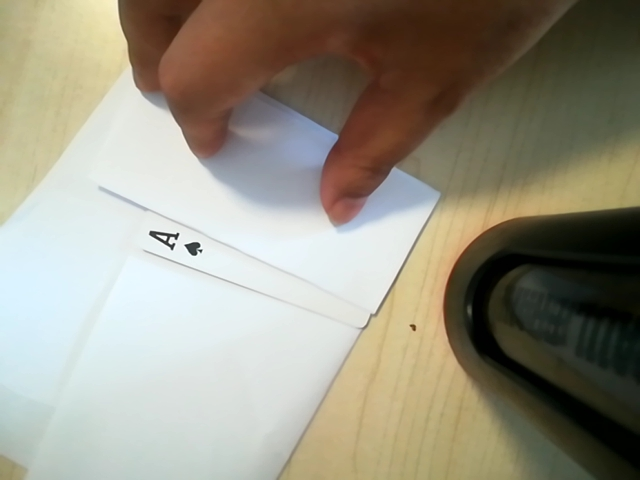ht a: (133, 211, 208, 271)
